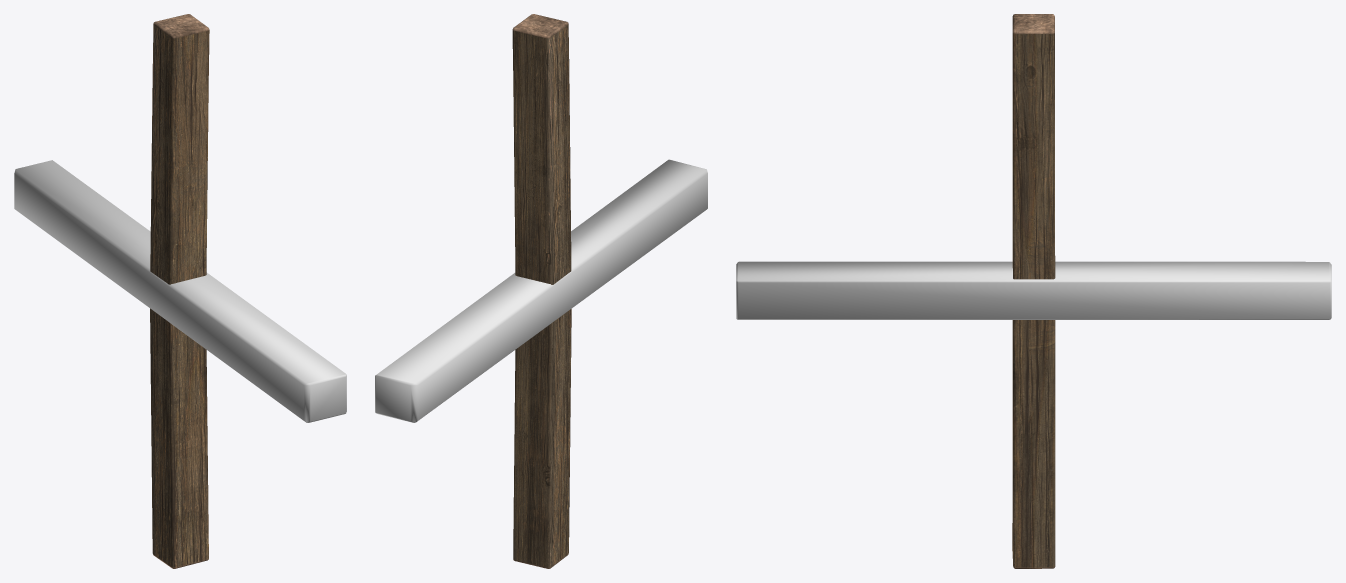
The model's file is SM_Small_Beam_A.fbx.
3 renders of one model, left to right at view 1: azimuth 30°, elevation 25°; view 2: azimuth 150°, elevation 25°; view 3: azimuth 270°, elevation 25°, orthographic.
Parts seen in each view (by area): view 1: SM_Small_Beam_A, SM_Small_Beam_A_ConvexHulls; view 2: SM_Small_Beam_A, SM_Small_Beam_A_ConvexHulls; view 3: SM_Small_Beam_A_ConvexHulls, SM_Small_Beam_A.
Part boxes in pixels (x1,y1,x2,y2): SM_Small_Beam_A: (150, 14, 209, 568); SM_Small_Beam_A_ConvexHulls: (14, 160, 346, 422); SM_Small_Beam_A: (512, 14, 571, 568); SM_Small_Beam_A_ConvexHulls: (375, 159, 707, 422); SM_Small_Beam_A_ConvexHulls: (736, 261, 1331, 319); SM_Small_Beam_A: (1012, 14, 1055, 568).
Bounding box in the file's own units: 0.1044 × 1.28 × 1.29.
